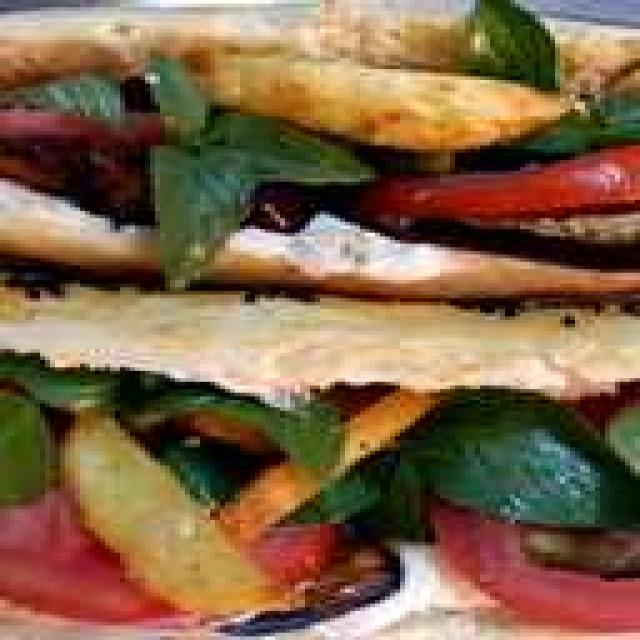French Fries: (60, 393, 400, 549)
